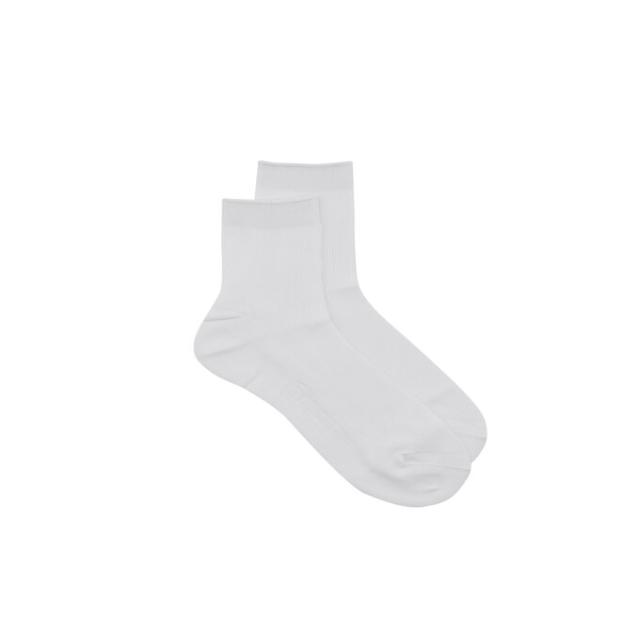sock: (192, 159, 488, 507)
